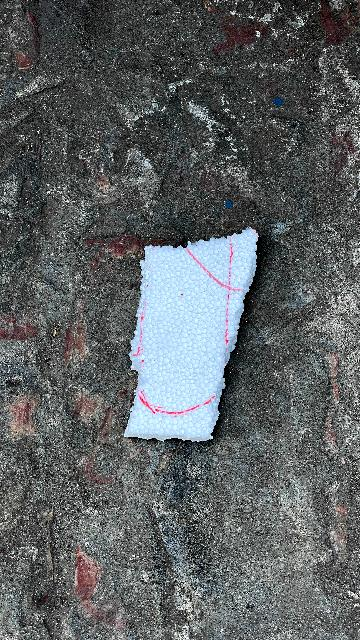cocksheet: (120, 206, 266, 468)
